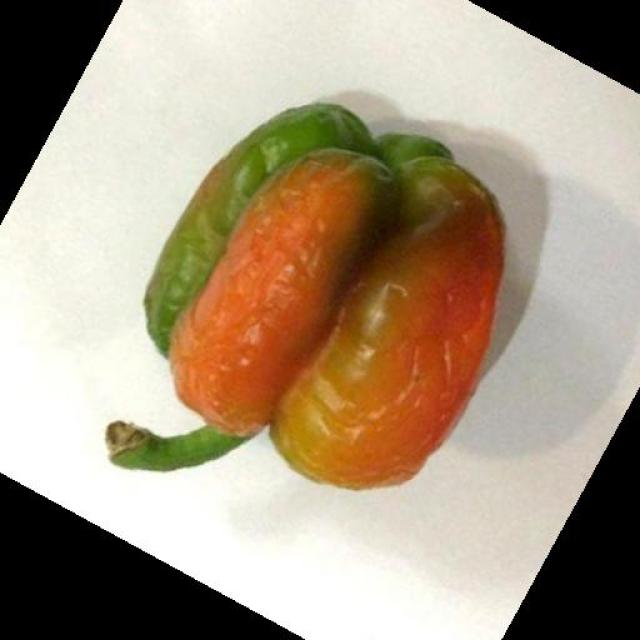Stale_Capsicum: (142, 82, 513, 495)
